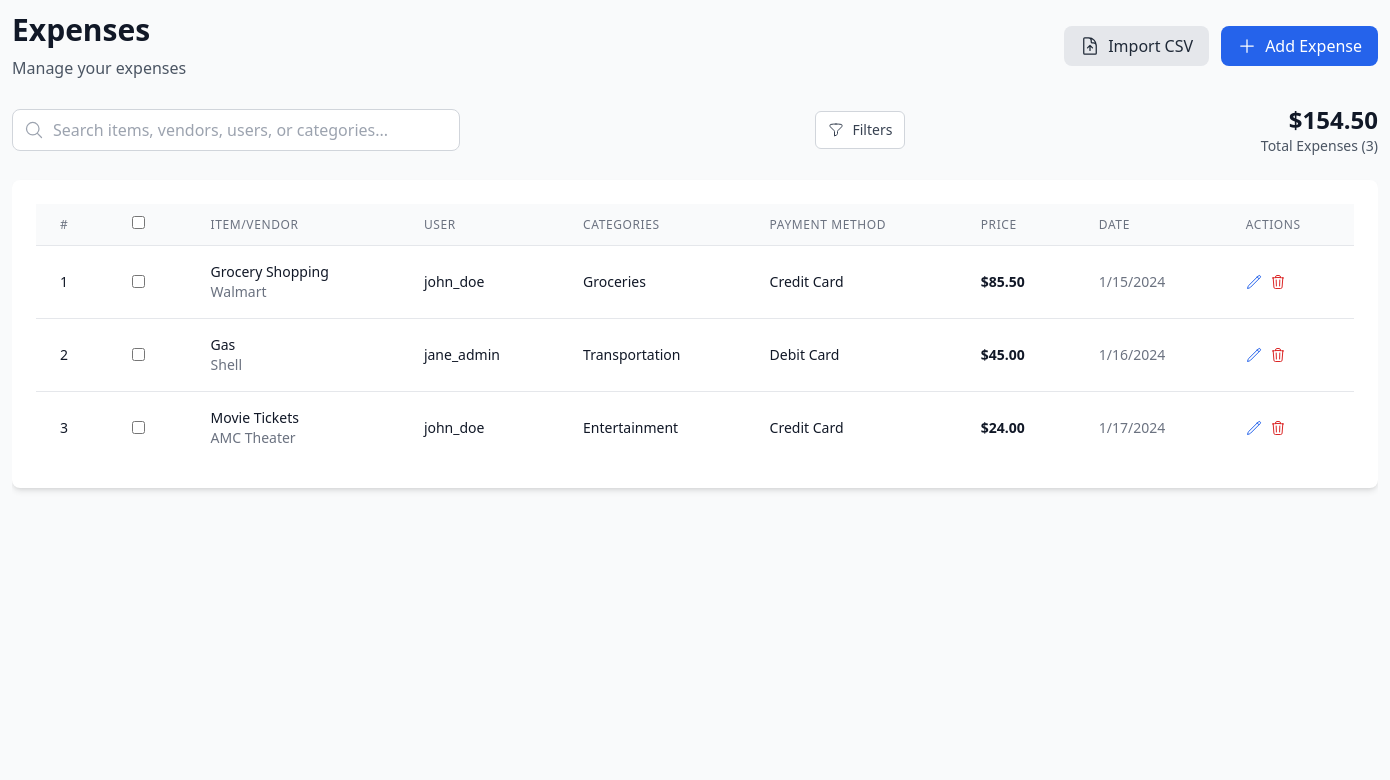
Expenses › Filter Functionality › filters by category
The image size is (1390, 780).
Open filters
Click the button "Filters". click: {"x": 860, "y": 130}
box: [816,111,905,149]
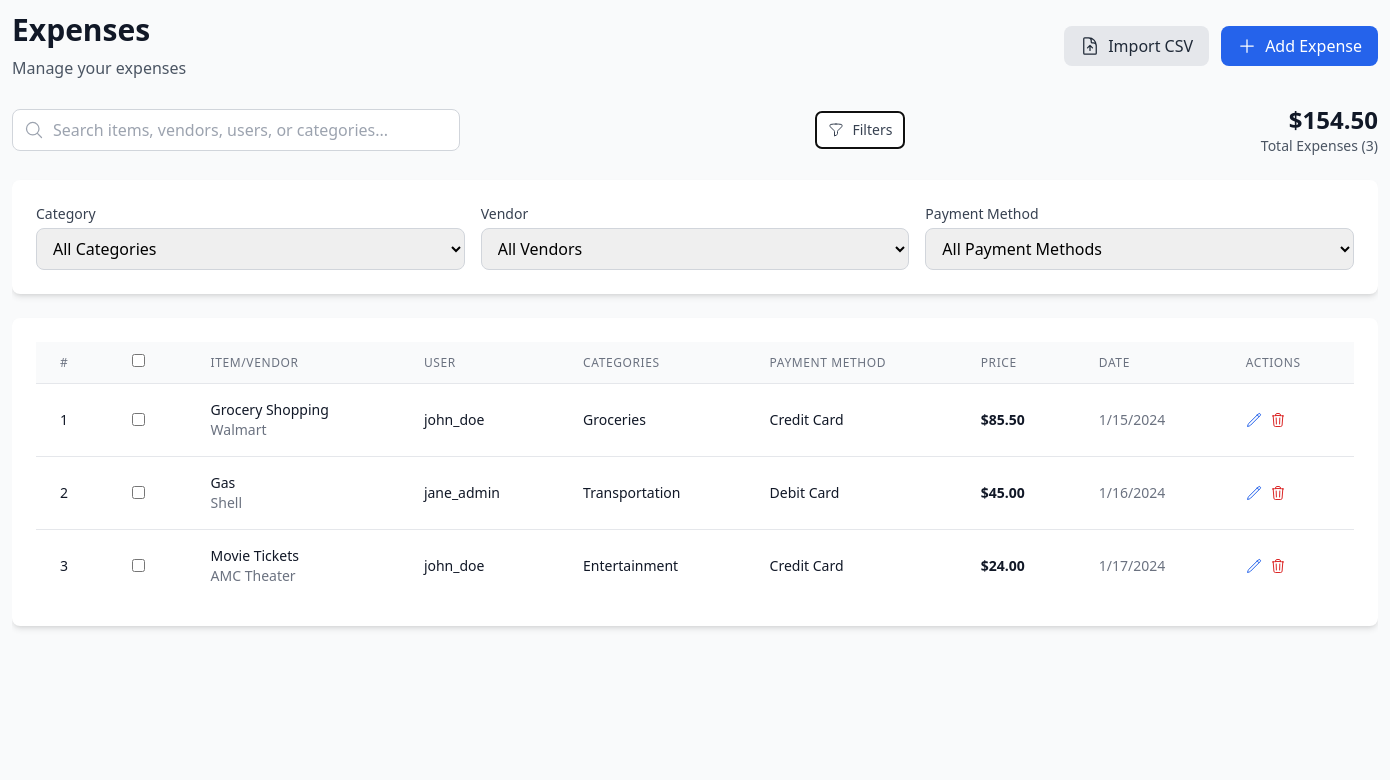
Select category filter
Select "Groceries" in the dropdown showing "All Categories" below "Category". click: {"x": 250, "y": 249}
box: [36,228,465,270]
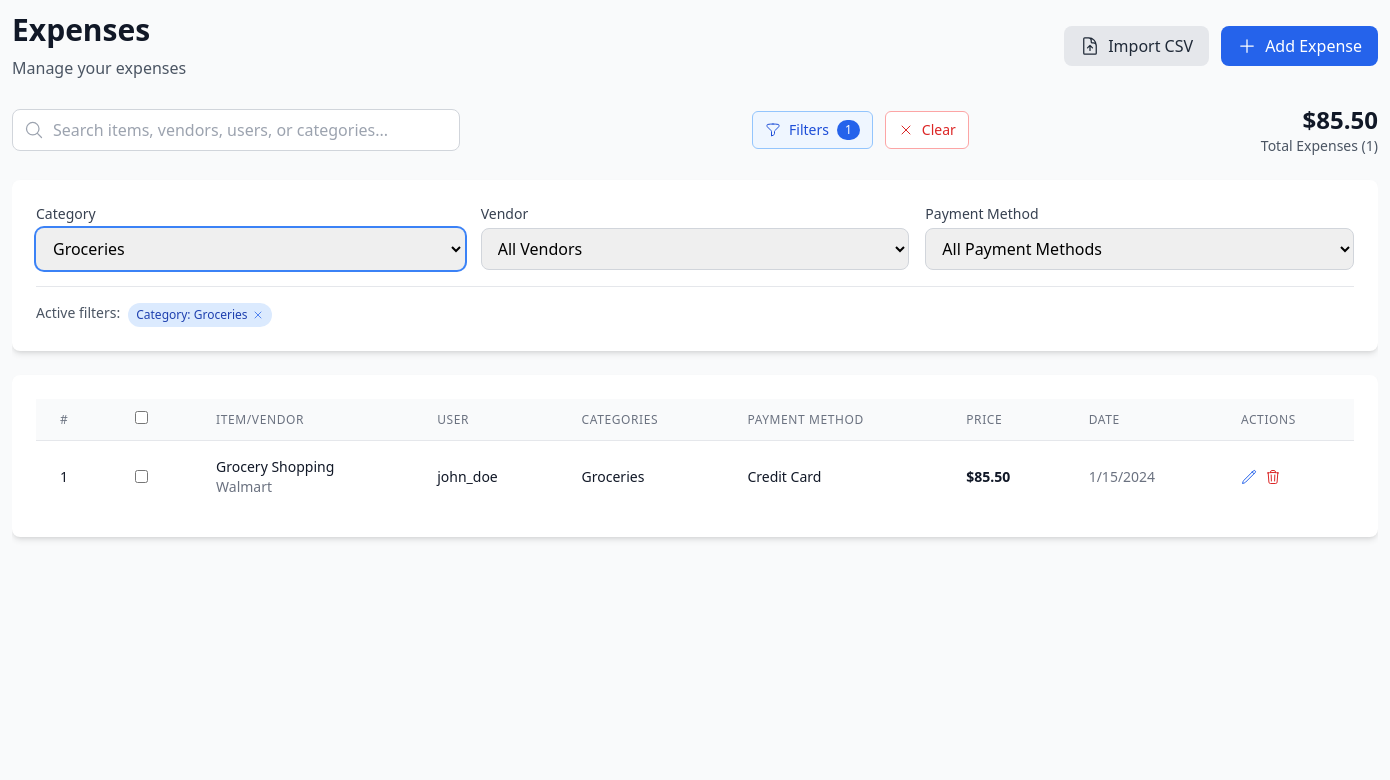
Expected: the text "Grocery Shopping" is shown, [216,457,334,476]
Expected: the text "Gas" is gone
Expected: the text "Movie Tickets" is gone
